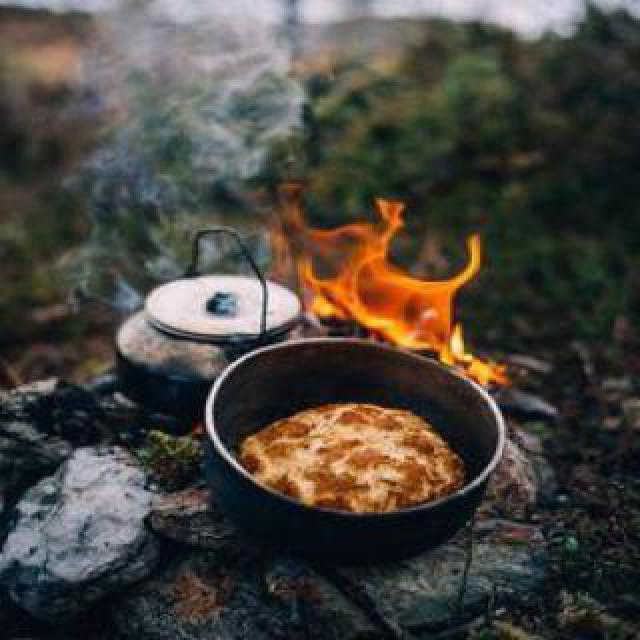Fire: (296, 206, 514, 356)
Smoke: (74, 9, 306, 283)
